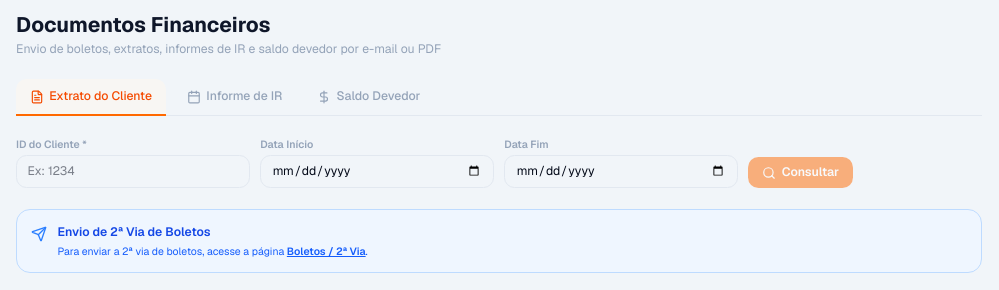
Test: DocumentosFinanceirosPage › switches to Informe de IR tab
The image size is (999, 290).
Click the button "Informe de IR" at (235, 98), box [173,79,296,116]
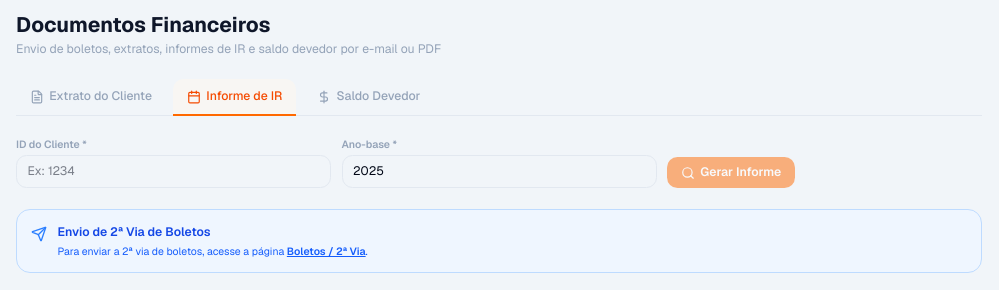
Expected: the button "Gerar Informe" is shown, [667,157,795,188]
